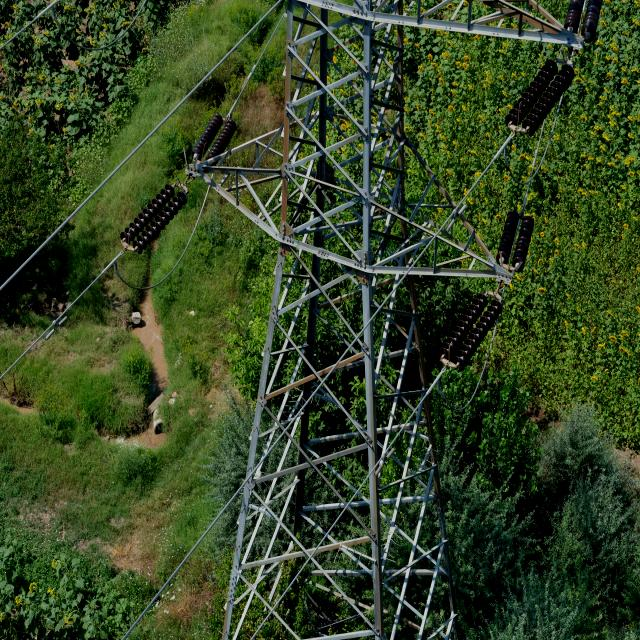voltage_line: (231, 9, 469, 622)
